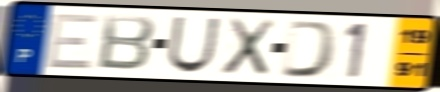1: (343, 20, 371, 81)
B: (95, 13, 158, 73)
D: (279, 18, 341, 80)
E: (43, 12, 101, 72)
U: (165, 15, 223, 75)
X: (219, 17, 278, 78)
